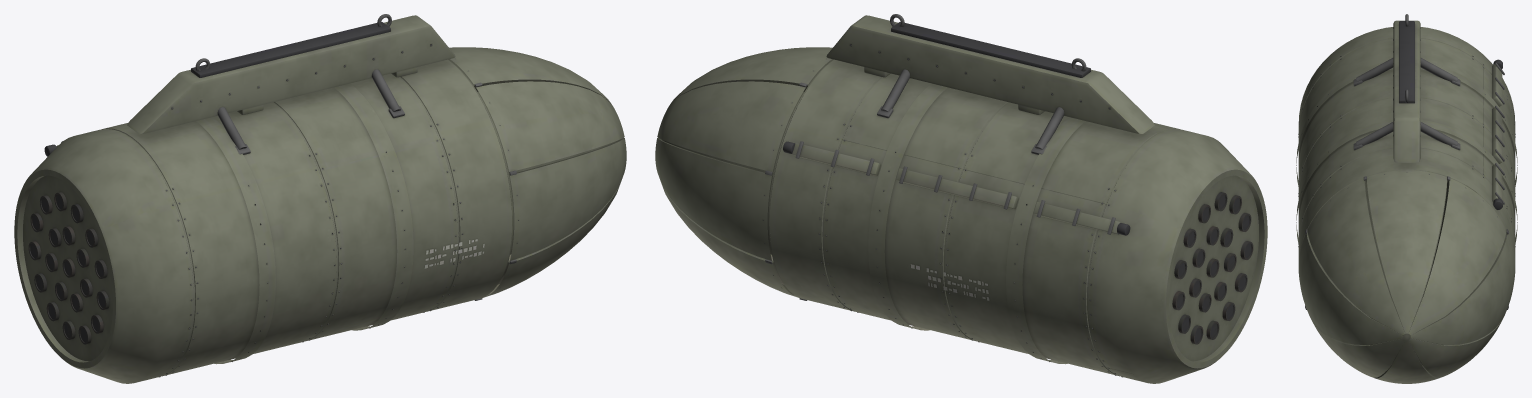
The model's file is rockets_3.glb.
3 renders of one model, left to right at view 1: azimuth 30°, elevation 25°; view 2: azimuth 150°, elevation 25°; view 3: azimuth 270°, elevation 25°, orthographic. The views are drawn at different scales.
Parts seen in each view (by area): view 1: rockets_3; view 2: rockets_3; view 3: rockets_3.
Boxes of the visible parts, x1,y1,x2,y2 form: rockets_3: (14,14,626,383); rockets_3: (655,14,1267,383); rockets_3: (1296,14,1517,383).
Size of the model in its own units: 1 by 0.5202 by 0.4092.
5 materials, 5 textured.
